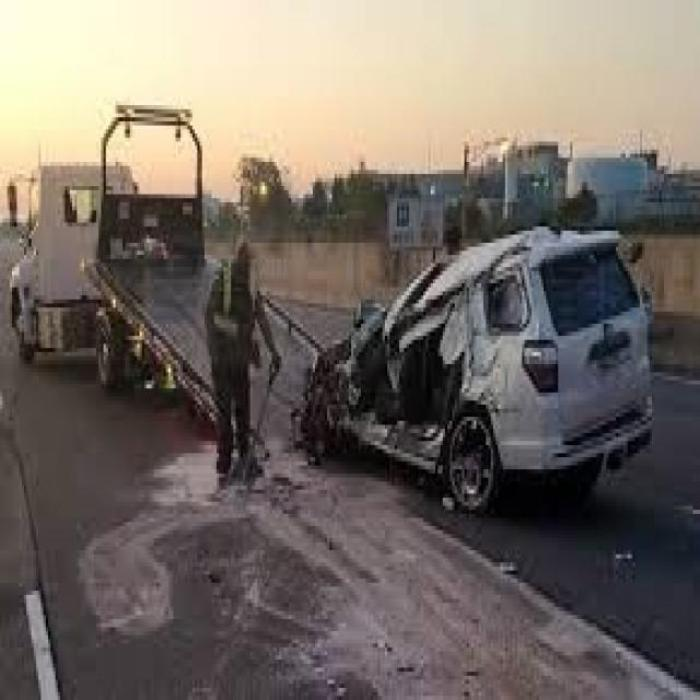Accident: (294, 218, 654, 534)
